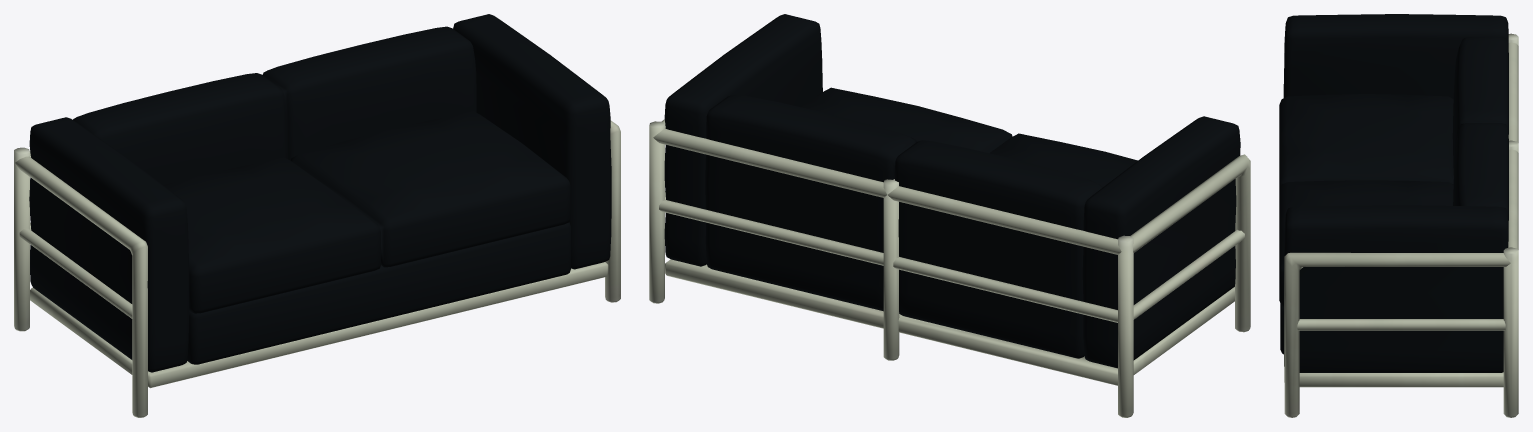
3 renders of one model, left to right at view 1: azimuth 30°, elevation 25°; view 2: azimuth 150°, elevation 25°; view 3: azimuth 270°, elevation 25°, orthographic. The views are drawn at different scales.
Size of the model in its own units: 19.46 by 7.94 by 8.95.
Materials: 2 (2 with a texture image).
